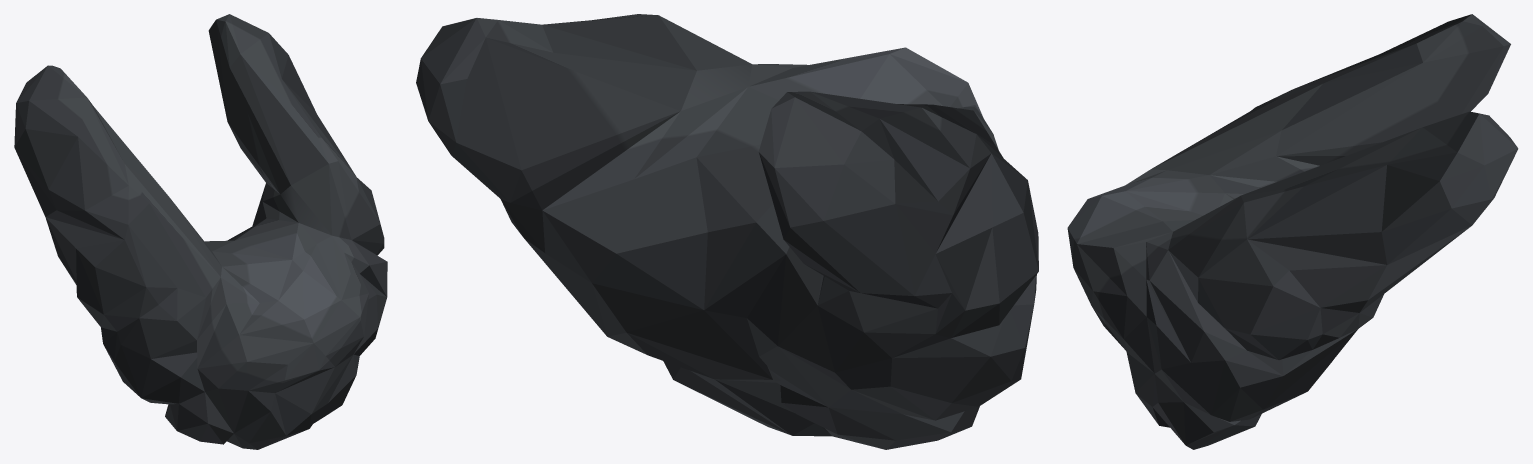
The model's file is SM_Chr_Attach_Beard_04.fbx.
3 renders of one model, left to right at view 1: azimuth 30°, elevation 25°; view 2: azimuth 150°, elevation 25°; view 3: azimuth 270°, elevation 25°, orthographic. The views are drawn at different scales.
Parts seen in each view (by area): view 1: SM_Chr_Attach_Beard_04; view 2: SM_Chr_Attach_Beard_04; view 3: SM_Chr_Attach_Beard_04.
Boxes of the visible parts, left/top/right/bottom form: SM_Chr_Attach_Beard_04: left=14, top=14, right=387, bottom=449; SM_Chr_Attach_Beard_04: left=416, top=14, right=1038, bottom=449; SM_Chr_Attach_Beard_04: left=1067, top=14, right=1518, bottom=449.
Bounding box in the file's own units: 24.52 × 25.68 × 28.93.
